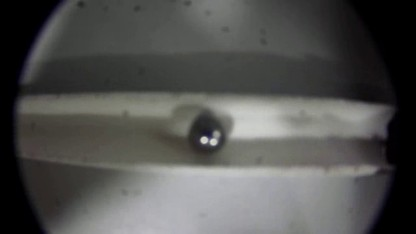gangzhu: (187, 112, 228, 154)
